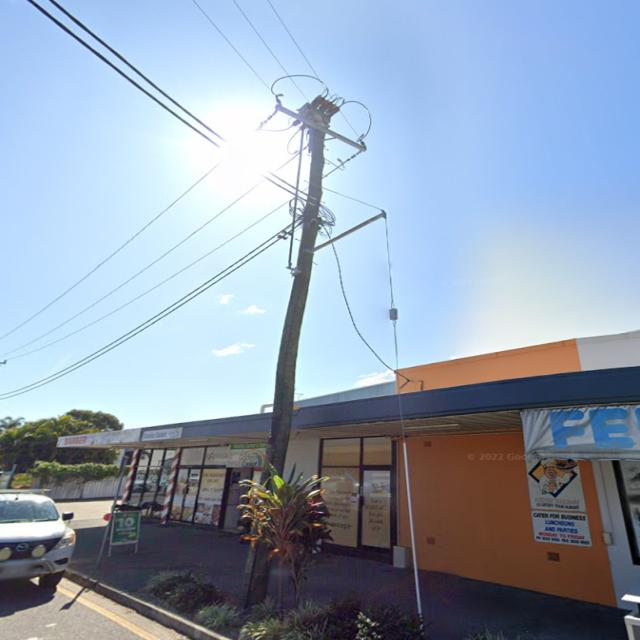HV-switch: (292, 93, 346, 135)
HV-transmission: (255, 94, 368, 164)
crossarm: (274, 104, 368, 151)
timber-pole: (241, 128, 326, 606)
